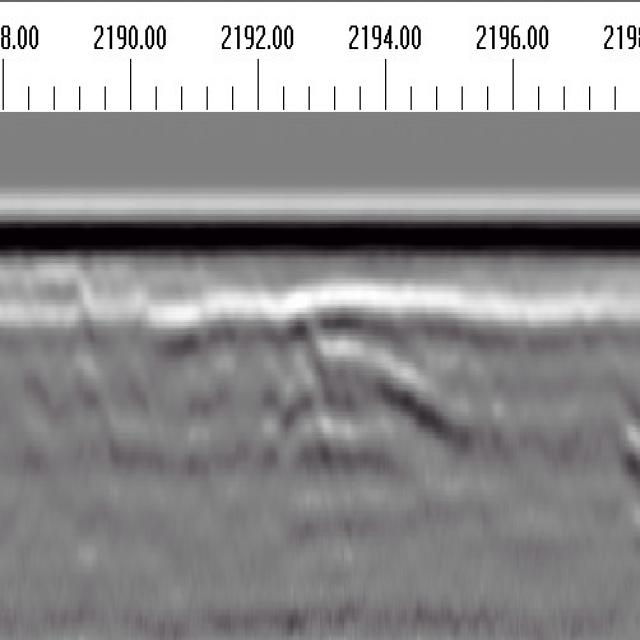loose: (62, 286, 482, 490)
